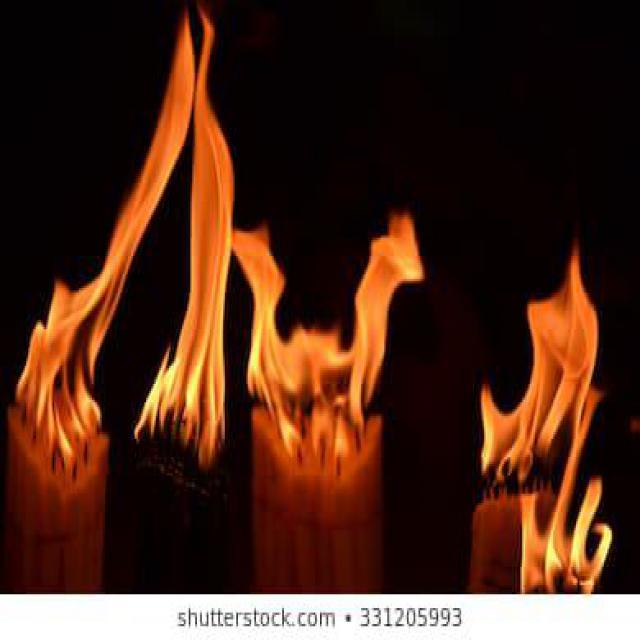Fire: (9, 15, 196, 447), (480, 234, 612, 593), (134, 9, 236, 466), (227, 208, 426, 439)
